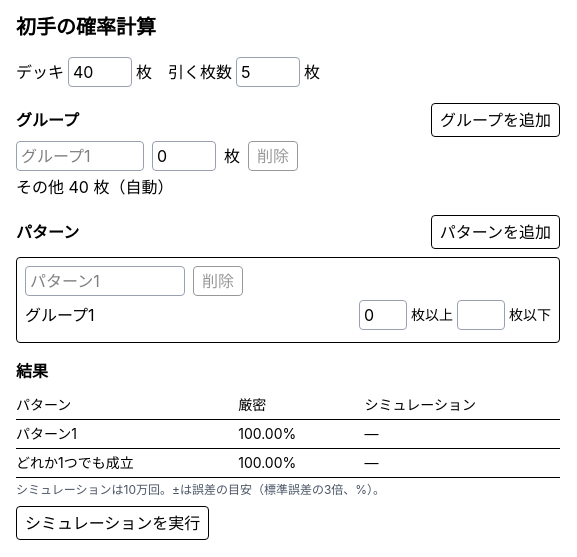
it: 合計が超えると、誤りが出て、その他は表示されない
Replace the text in the number field named "グループ1の枚数" with "41" at (184, 156), box [152,141,216,171]
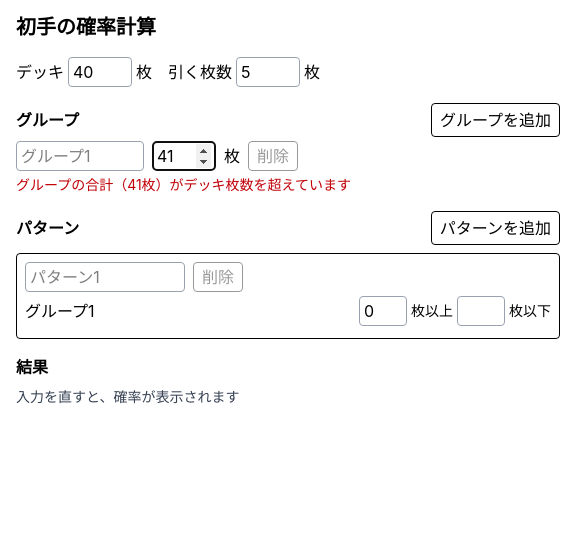
expect the text "その他 40 枚（自動）" is not shown: met
expect the message reads "グループの合計（41枚）がデッキ枚数を超えています": met, box [16,176,351,193]
